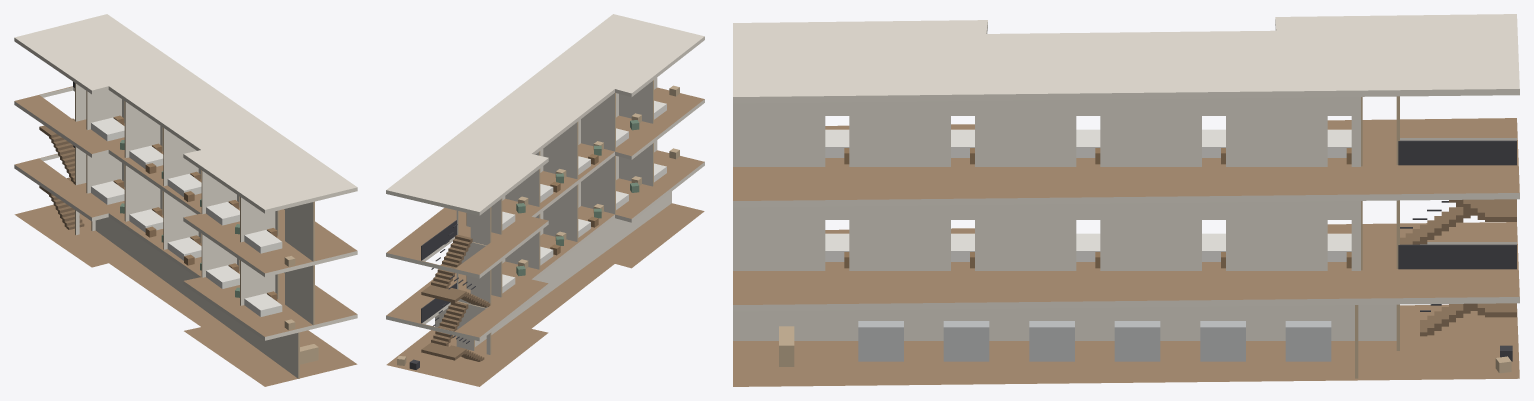
Rendered from interior.glb.
The picture shows the model from 3 angles, left to right: view 1: azimuth 30°, elevation 25°; view 2: azimuth 150°, elevation 25°; view 3: azimuth 270°, elevation 25°; orthographic projection. The views are drawn at different scales.
Parts seen in each view (by area): view 1: slabs, partitions, coarse-s1, coarse-s2, stair, coarse-s0; view 2: slabs, partitions, stair, coarse-s2, coarse-s1; view 3: slabs, partitions, coarse-s0, stair, coarse-s1, coarse-s2.
Boxes of the visible parts, <box> form: slabs: <box>14,14,357,386</box>; partitions: <box>75,83,314,378</box>; coarse-s1: <box>91,179,295,330</box>; coarse-s2: <box>91,115,295,266</box>; stair: <box>39,82,84,229</box>; coarse-s0: <box>300,344,318,364</box>; slabs: <box>386,14,704,386</box>; partitions: <box>435,77,671,354</box>; stair: <box>421,220,490,361</box>; coarse-s2: <box>502,85,679,230</box>; coarse-s1: <box>502,148,679,293</box>; slabs: <box>733,14,1519,386</box>; partitions: <box>733,96,1399,378</box>; coarse-s0: <box>779,321,1512,373</box>; stair: <box>1398,140,1516,336</box>; coarse-s1: <box>825,233,1351,268</box>; coarse-s2: <box>825,129,1351,164</box>.
Size of the model in its own units: 7.36 by 11.99 by 29.44.
